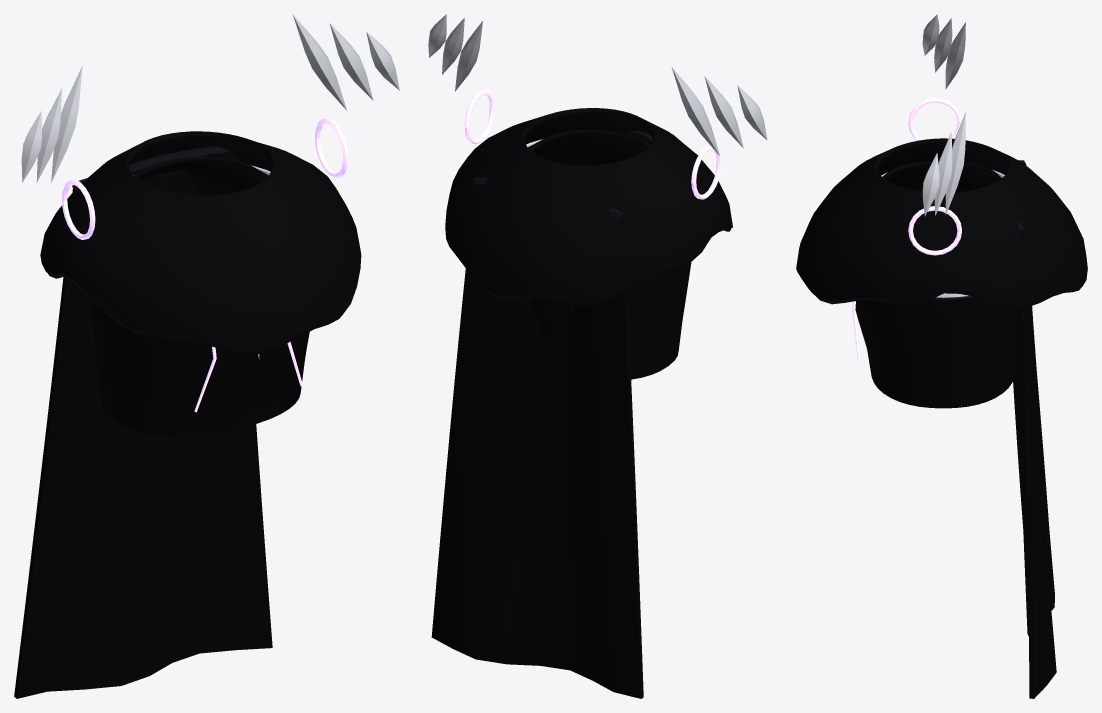
The model's file is esc_void_unwritten_armor.glb.
3 views of the same model, side by side, from view 1: azimuth 30°, elevation 25°; view 2: azimuth 150°, elevation 25°; view 3: azimuth 270°, elevation 25° (orthographic). The views are drawn at different scales.
Visible parts, largest first — view 1: esc_void_unwritten_armor; view 2: esc_void_unwritten_armor; view 3: esc_void_unwritten_armor.
Boxes of the visible parts, x1,y1,x2,y2 form: esc_void_unwritten_armor: (14, 14, 399, 698); esc_void_unwritten_armor: (428, 14, 767, 698); esc_void_unwritten_armor: (796, 14, 1087, 698).
Bounding box in the file's own units: 0.9251 × 1.56 × 0.7093.
